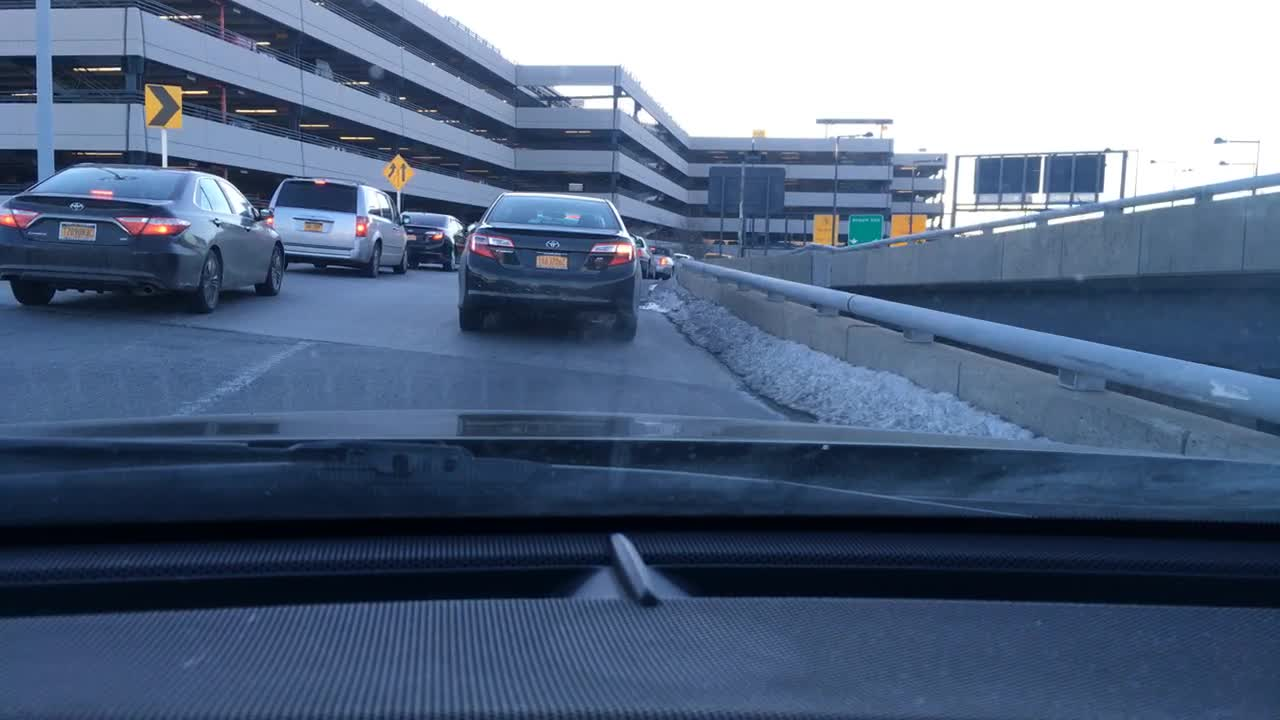car: (0, 159, 283, 314), (452, 192, 640, 336), (268, 177, 411, 274), (398, 212, 470, 270), (632, 235, 656, 277), (646, 247, 676, 277), (703, 252, 734, 259), (672, 252, 697, 259)
traffic sign: (708, 164, 783, 217), (1043, 153, 1105, 193), (975, 157, 1036, 195), (143, 83, 183, 127), (890, 214, 930, 245), (849, 212, 883, 245), (381, 155, 414, 187), (813, 213, 838, 245)
